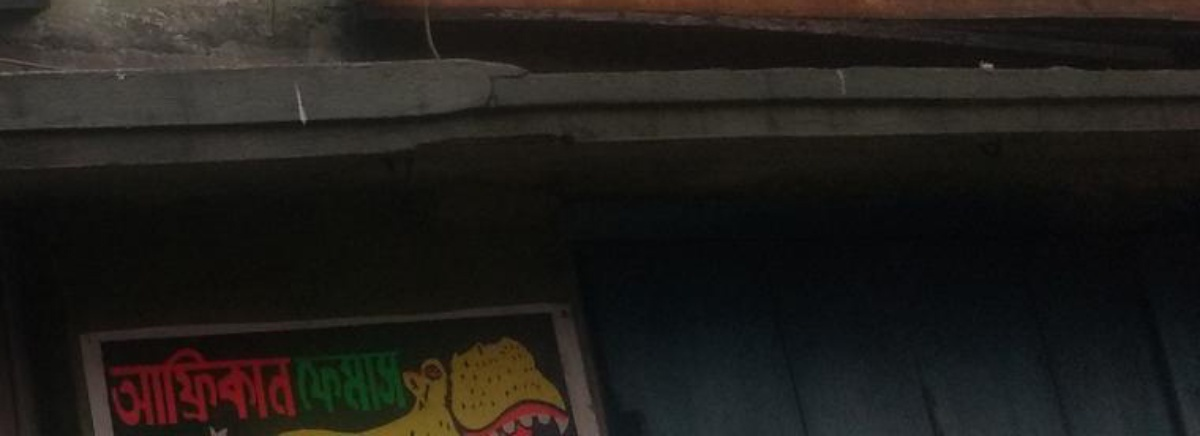text: (113, 345, 128, 429), (129, 345, 144, 429), (145, 345, 160, 429), (161, 345, 176, 429), (177, 345, 192, 429), (193, 345, 208, 429), (209, 345, 224, 429), (225, 345, 240, 429), (241, 345, 256, 429), (257, 345, 272, 429), (273, 345, 288, 429), (305, 350, 320, 414), (321, 350, 336, 414), (337, 350, 352, 414), (353, 350, 368, 414), (369, 350, 384, 414), (385, 350, 400, 414), (291, 350, 304, 414), (289, 345, 297, 429), (401, 350, 411, 414), (109, 345, 112, 429)
